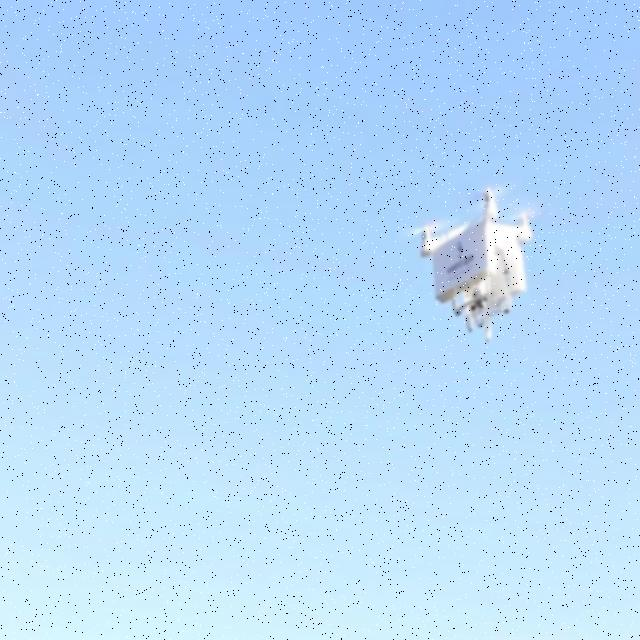UAV: (420, 186, 532, 341)
